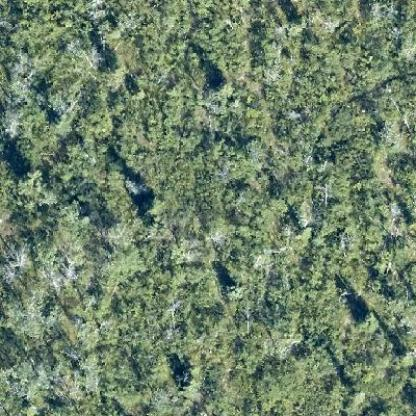tree-top: (138, 190, 166, 214), (352, 306, 378, 330), (174, 365, 196, 392), (222, 278, 244, 302), (14, 166, 38, 188), (209, 76, 230, 98)
